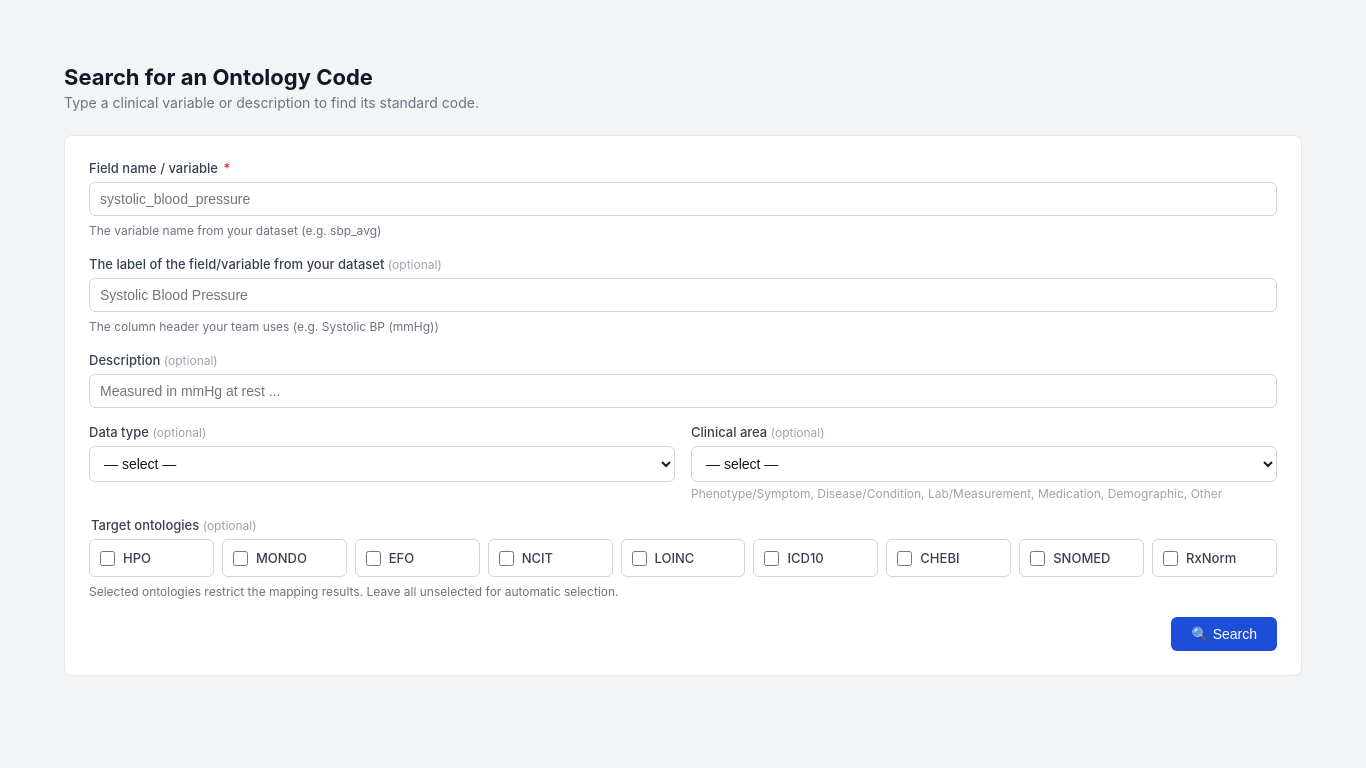
Test: SearchPage retrieval method display › shows the strict ontology toggle once EFO is selected
This screenshot has width=1366, height=768.
Click the checkbox labelled "EFO": (373, 558) [366,550,381,566]
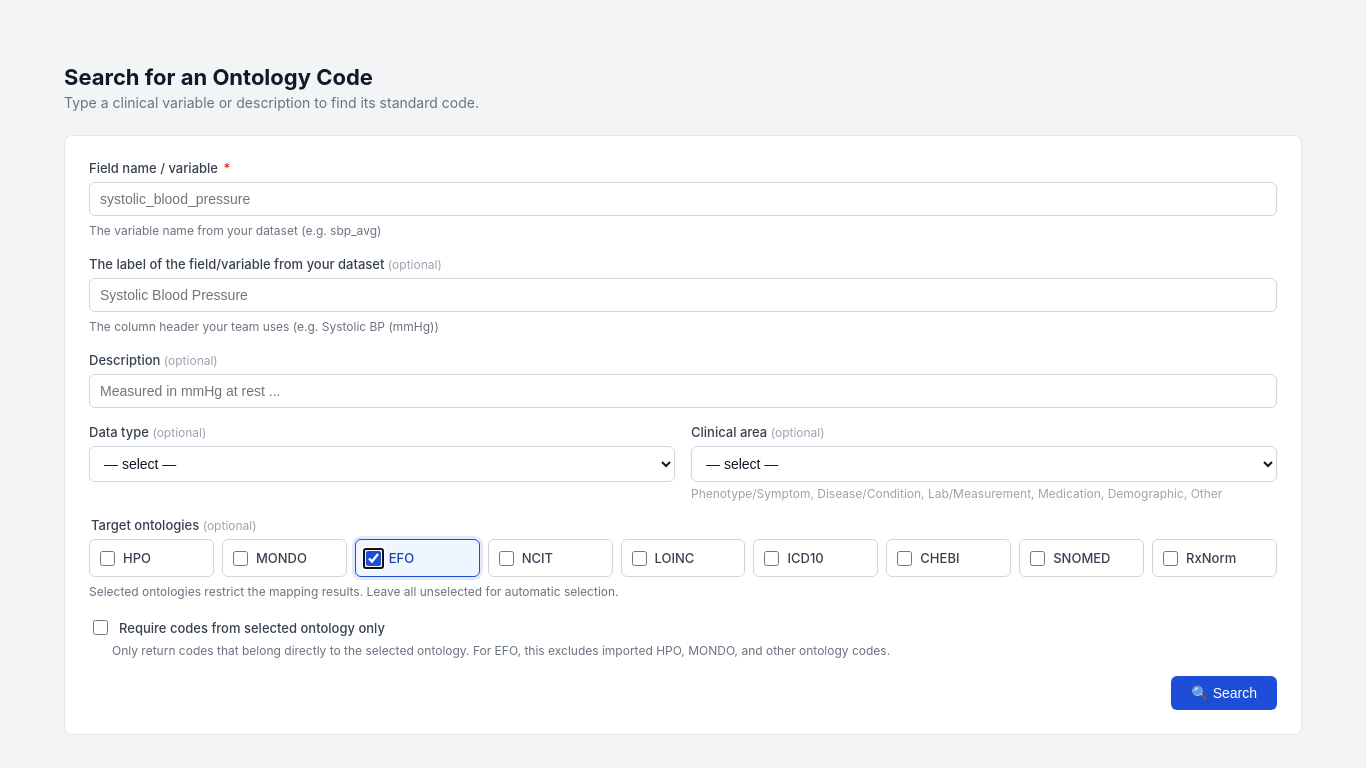
Check: the checkbox labelled "Require codes from selected ontology only" is shown, box [93,620,108,635]
